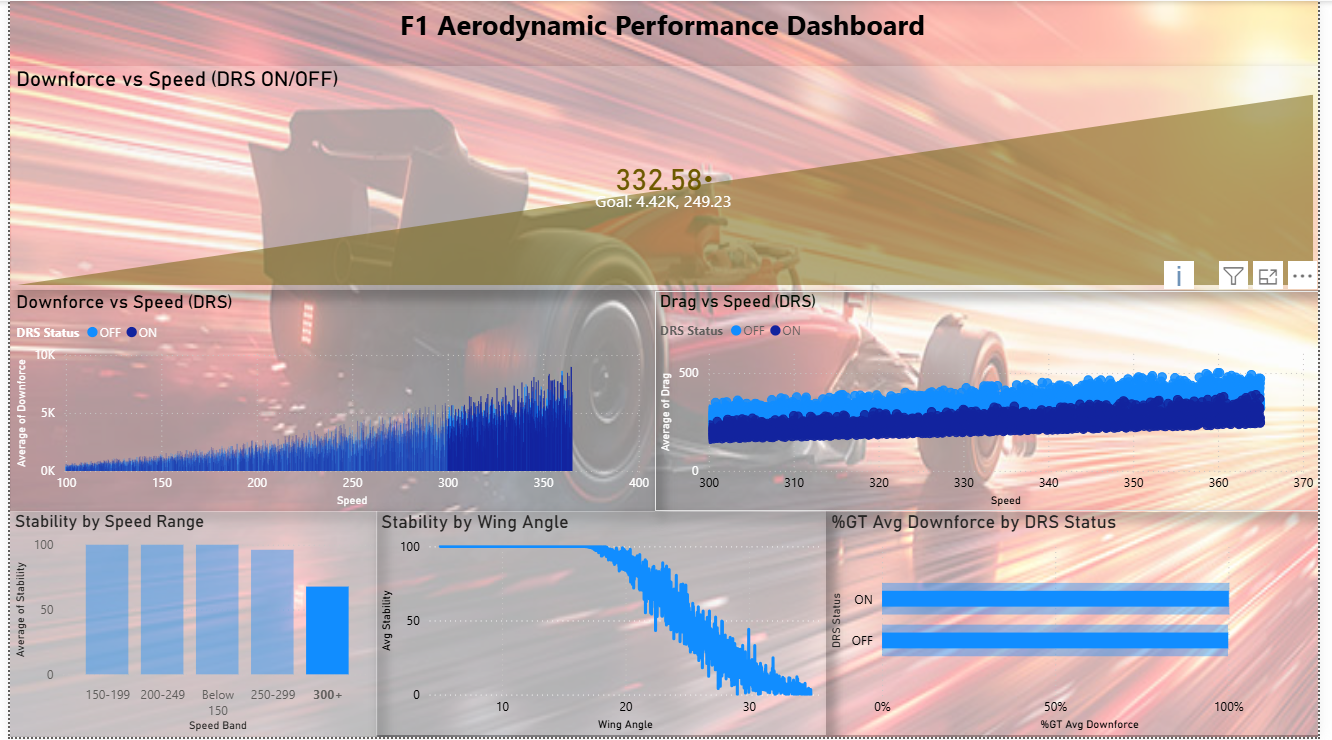

This screenshot's page, from the dashboard's own definition file:
{"tool":"powerbi","page":{"name":"Page 1","canvas":[1280,720],"ordinal":0},"visuals":[{"type":"kpi","title":"Downforce vs Speed (DRS ON/OFF)","fields":{"TrendLine":["actaruslab_f1_telemetry_2026.DRS Status"],"Indicator":["actaruslab_f1_telemetry_2026.Avg Speed"],"Goal":["actaruslab_f1_telemetry_2026.Avg Downforce","actaruslab_f1_telemetry_2026.Avg Drag"]},"box":[1.2,63.9,1278.8,219.6],"z":0},{"type":"clusteredColumnChart","title":"Downforce vs Speed (DRS)","fields":{"Category":["actaruslab_f1_telemetry_2026.Speed"],"Series":["actaruslab_f1_telemetry_2026.DRS Status"],"Y":["Avg(actaruslab_f1_telemetry_2026.Downforce)"]},"box":[1.2,283.5,629.8,216],"z":1000},{"type":"scatterChart","title":"Drag vs Speed (DRS)","fields":{"Series":["actaruslab_f1_telemetry_2026.DRS Status"],"X":["actaruslab_f1_telemetry_2026.Speed"],"Y":["Avg(actaruslab_f1_telemetry_2026.Drag)"]},"box":[631,283.5,649.1,216],"z":2000},{"type":"barChart","fields":{"Category":["actaruslab_f1_telemetry_2026.DRS Status"],"Y":["actaruslab_f1_telemetry_2026.Avg Downforce"]},"box":[798.7,499.5,481.4,219.6],"z":3000},{"type":"clusteredColumnChart","title":"Stability by Speed Range","fields":{"Y":["Avg(actaruslab_f1_telemetry_2026.Stability)"],"Category":["actaruslab_f1_telemetry_2026.Speed Band"]},"box":[1.2,498.9,359.5,221.3],"z":4000},{"type":"lineChart","title":"Stability by Wing Angle","fields":{"Category":["actaruslab_f1_telemetry_2026.Wing Angle"],"Y":["actaruslab_f1_telemetry_2026.Avg Stability"]},"box":[358.3,500.1,440.2,220.1],"z":5000},{"type":"textbox","box":[100.1,0,1076.1,63.9],"z":6000}]}

Visuals, with their boxes in screenshot pixels (x1, y1, x2, y2), scaled from the page's 1280x720 canvas onto the 1332x740 screenshot:
"Downforce vs Speed (DRS ON/OFF)" kpi: crop(1, 66, 1331, 291)
"Downforce vs Speed (DRS)" clusteredColumnChart: crop(1, 291, 657, 513)
"Drag vs Speed (DRS)" scatterChart: crop(657, 291, 1331, 513)
barChart - actaruslab_f1_telemetry_2026.DRS Status x actaruslab_f1_telemetry_2026.Avg Downforce: crop(831, 513, 1331, 739)
"Stability by Speed Range" clusteredColumnChart: crop(1, 513, 375, 739)
"Stability by Wing Angle" lineChart: crop(373, 514, 831, 739)
textbox: crop(104, 0, 1224, 66)
